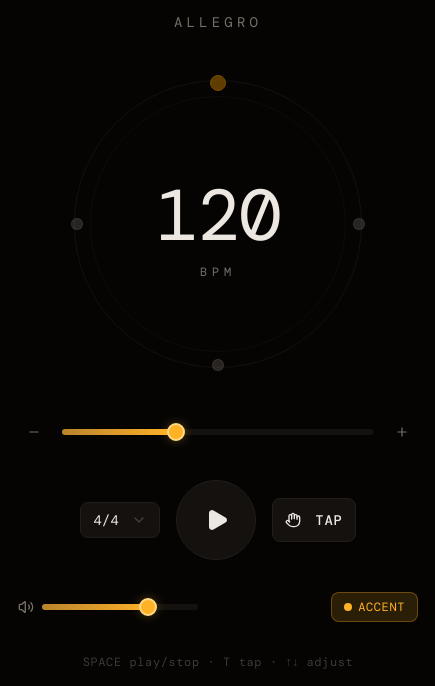
Metronome component › volume mute toggle › mute button toggles to unmute state
Click the button named "mute" at (26, 607), box x1=18 y1=599 x2=34 y2=615
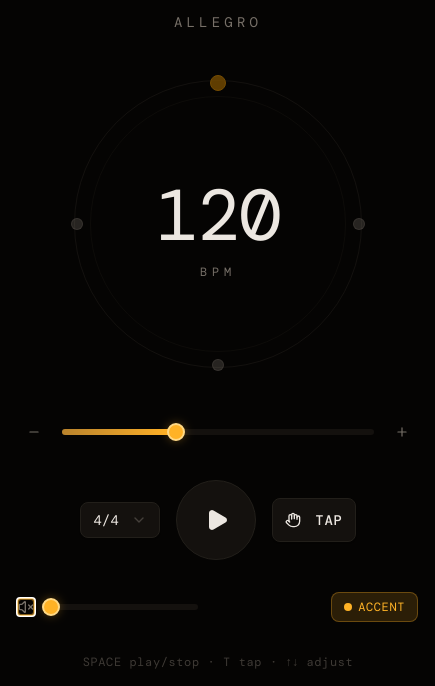
Expected: the button named "unmute" is shown, x1=18 y1=599 x2=34 y2=615
